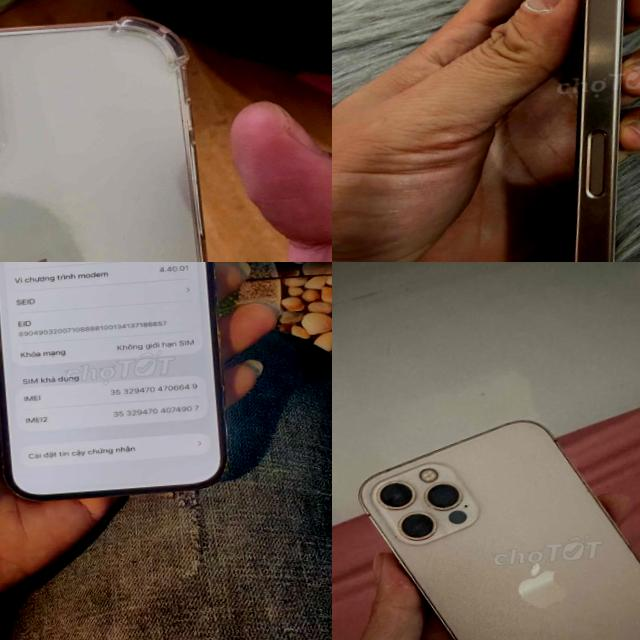gen_12_13: (350, 404, 640, 640), (0, 4, 244, 262)
gen_14: (0, 262, 238, 506)
gen_16: (570, 0, 622, 262)
physical_damage: (207, 362, 240, 472)
